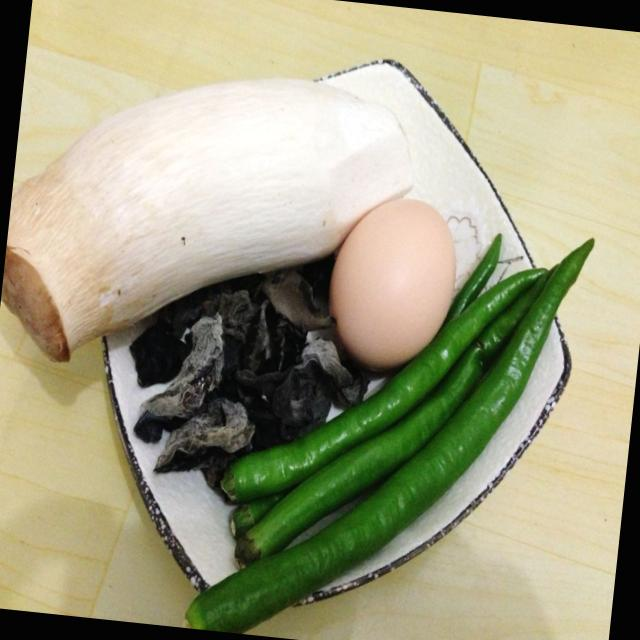Pleurotus eryngii: (0, 52, 421, 395)
